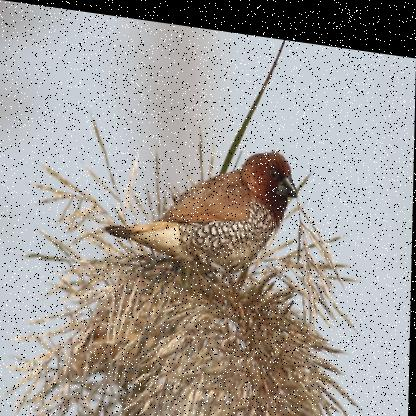Burung: (105, 123, 300, 292)
